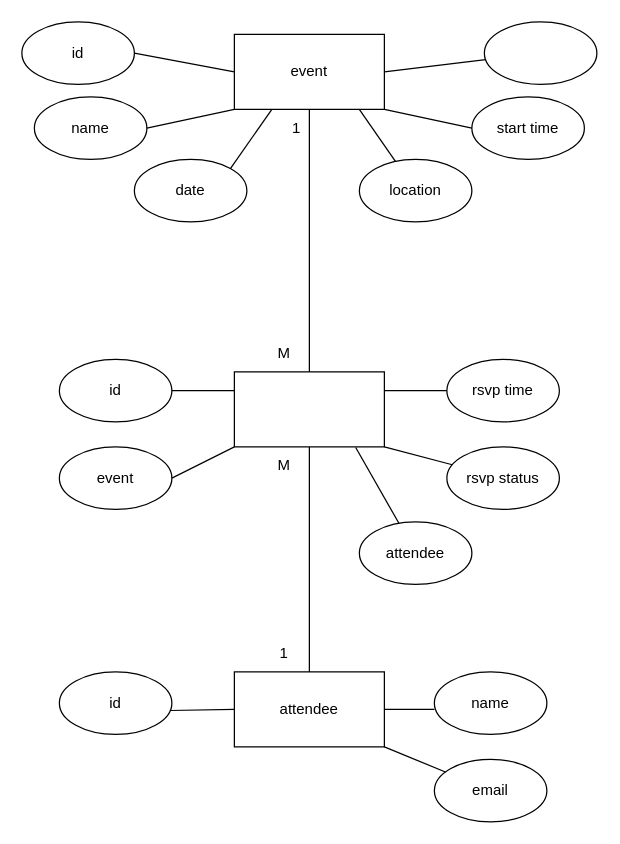
Image size: 620x844. Some labels were removed from this diagram. The shapes that lost their labels are listed below. From the top down, each one's box as (x1, y1, x2, y2) in pixels, then its label:
(483, 21, 597, 84): end time
(233, 371, 384, 447): invitation
